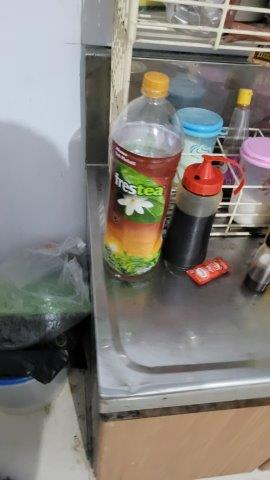botolplastik: (104, 70, 185, 278)
plastik: (1, 234, 92, 347)
